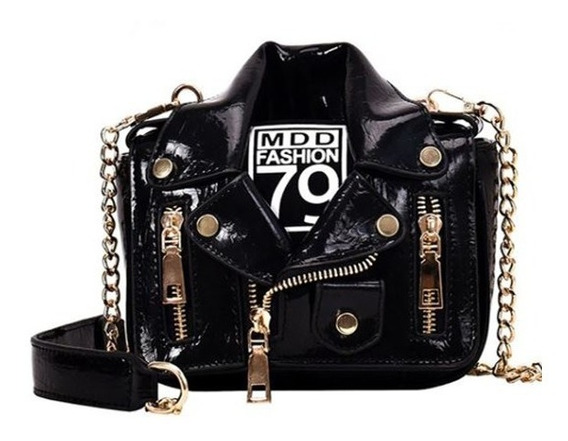cartera: (25, 37, 544, 416)
